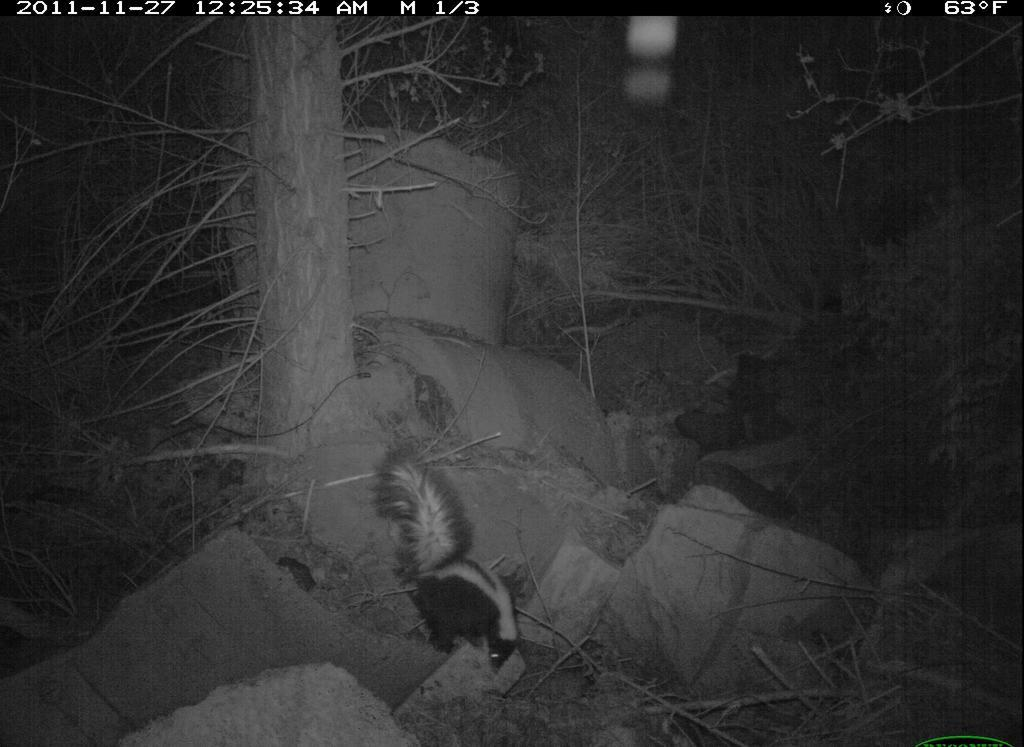skunk: (374, 440, 532, 673)
